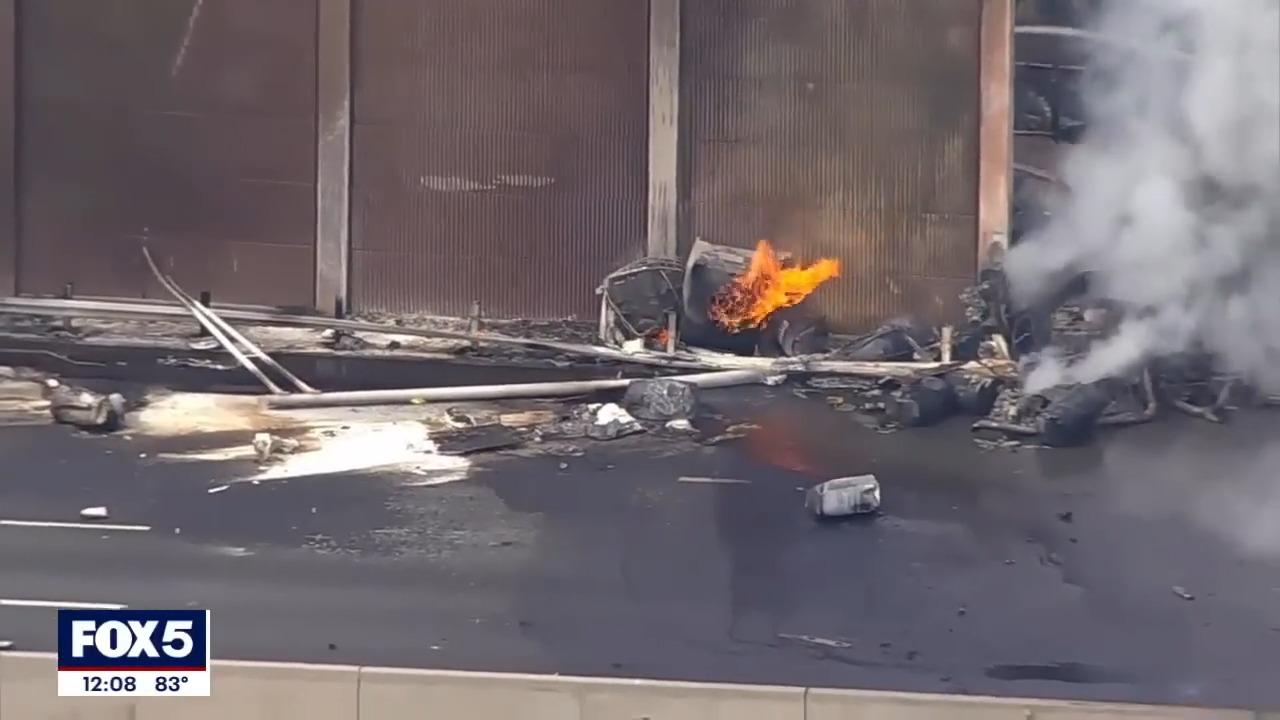fire: (720, 233, 846, 333)
